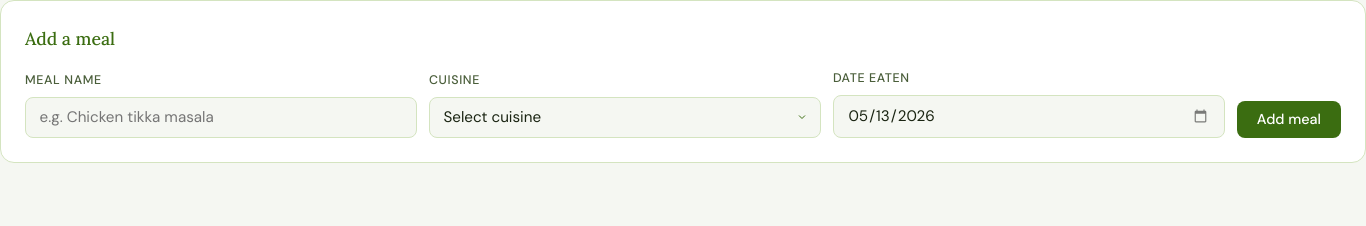
Test: MealForm — failed submission › shows error message when createMeal throws
Step 1. Type "Pizza" into the field with placeholder "e.g. Chicken tikka masala" → (221, 117), box [25,97,417,138]
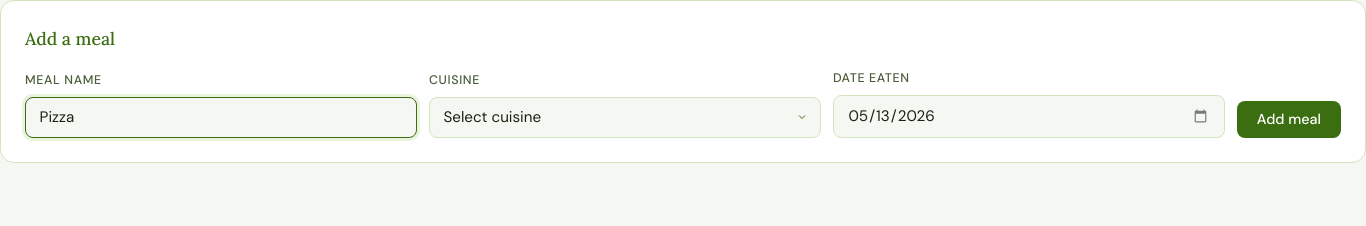
Step 2. Select "Italian" in the dropdown → (625, 117), box [429,97,821,138]
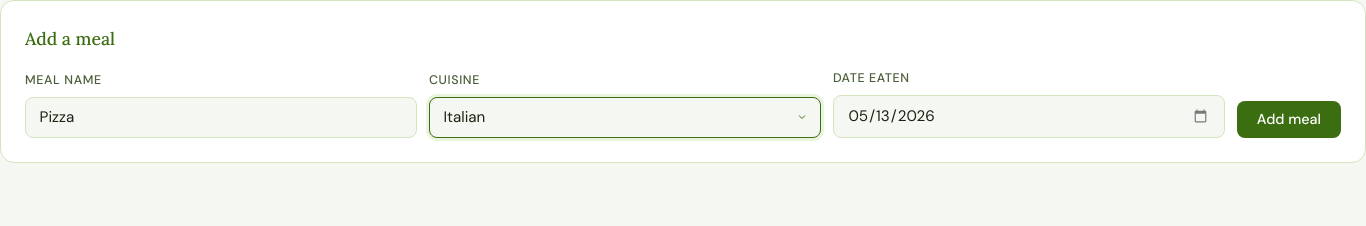
Step 3. Click the button "Add meal" → (1289, 119), box [1237,101,1341,138]
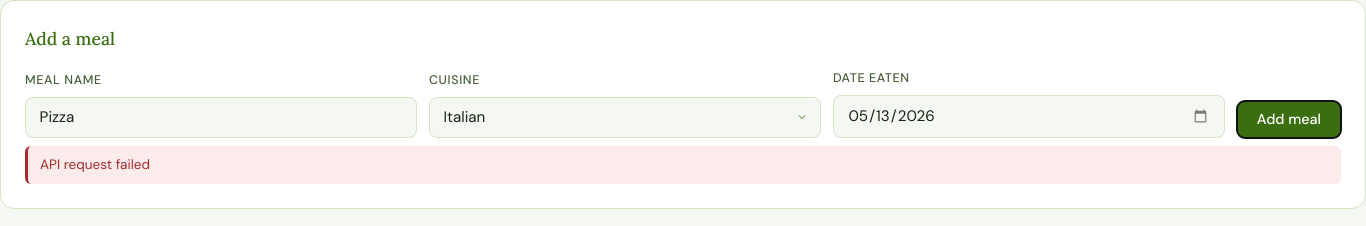
Expected: the text "API request failed" is shown, [25,146,1341,184]
